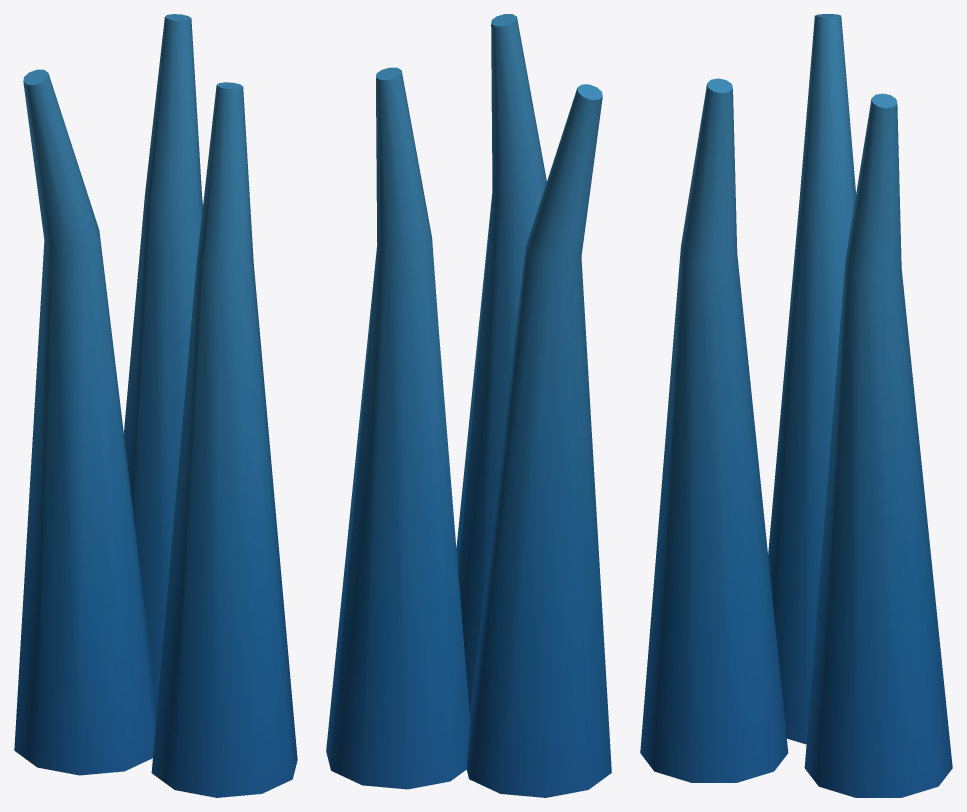
The model's file is Grass_H.fbx.
3 views of the same model, side by side, from view 1: azimuth 30°, elevation 25°; view 2: azimuth 150°, elevation 25°; view 3: azimuth 270°, elevation 25° (orthographic).
Visible parts, largest first — view 1: Grass_H; view 2: Grass_H; view 3: Grass_H.
Part boxes in pixels (x1=…): Grass_H: x1=14, y1=14, x2=297, y2=797; Grass_H: x1=326, y1=14, x2=611, y2=797; Grass_H: x1=640, y1=14, x2=952, y2=797.
Size of the model in its own units: 39.96 by 111 by 46.49.
